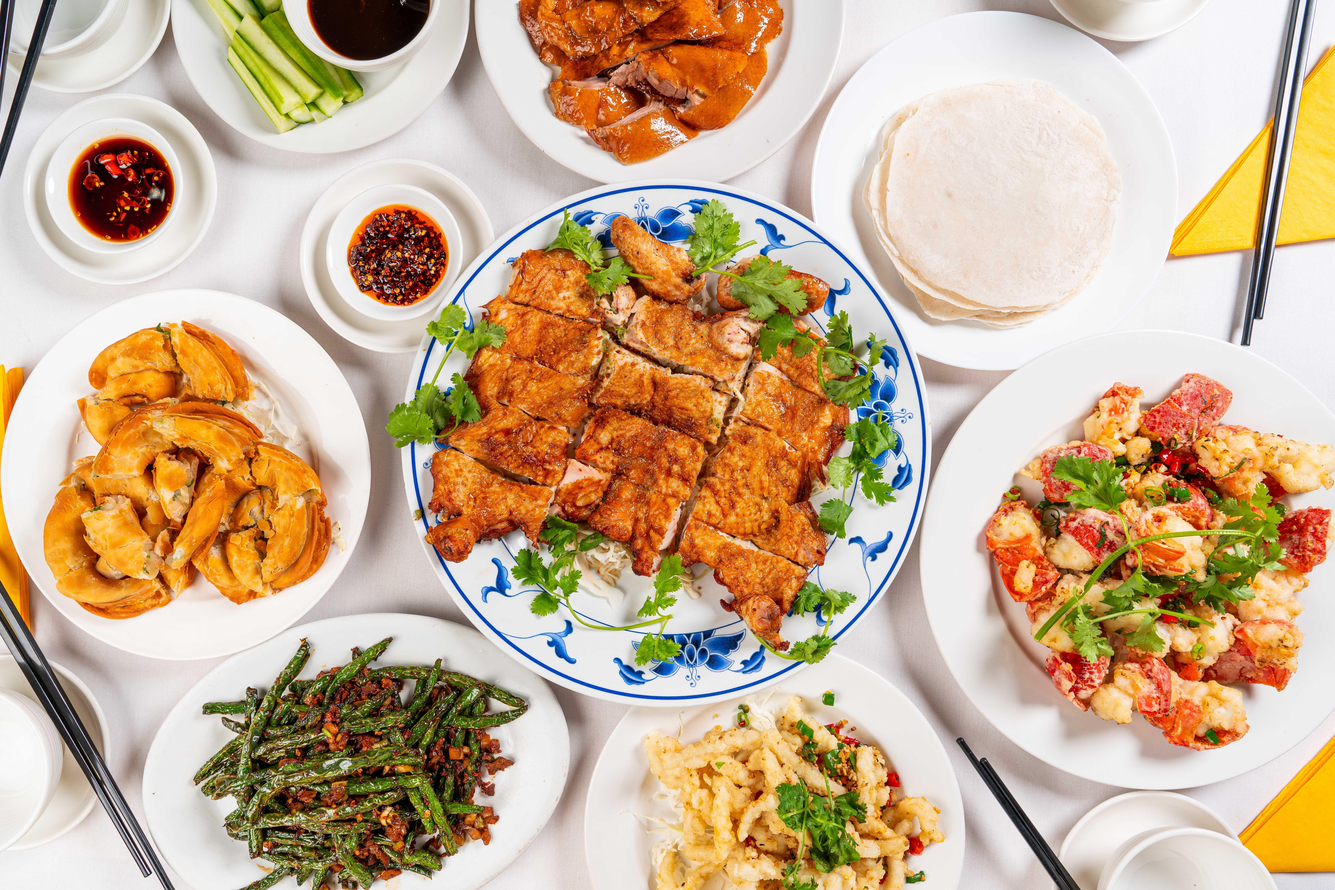Braised Crucian Carp: (440, 180, 934, 667), (939, 348, 1335, 773), (0, 299, 375, 645), (141, 634, 584, 886), (584, 672, 974, 888)
